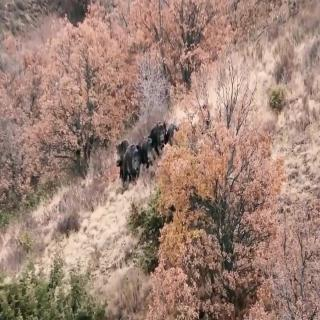Pig: (118, 135, 145, 195), (139, 133, 156, 178), (153, 114, 170, 158)
